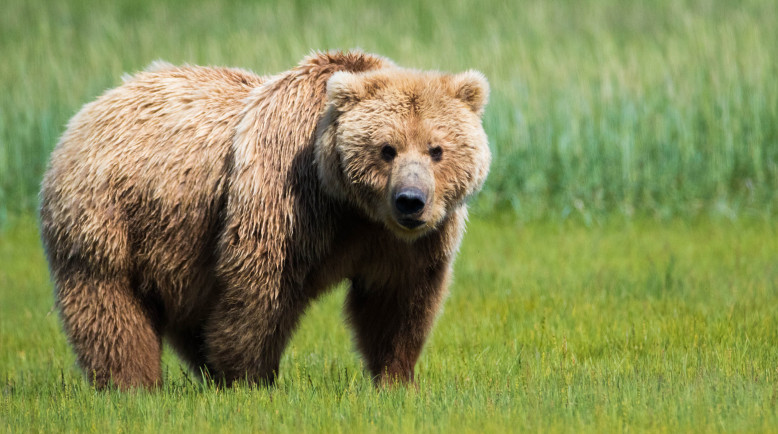bear: (309, 65, 497, 246)
